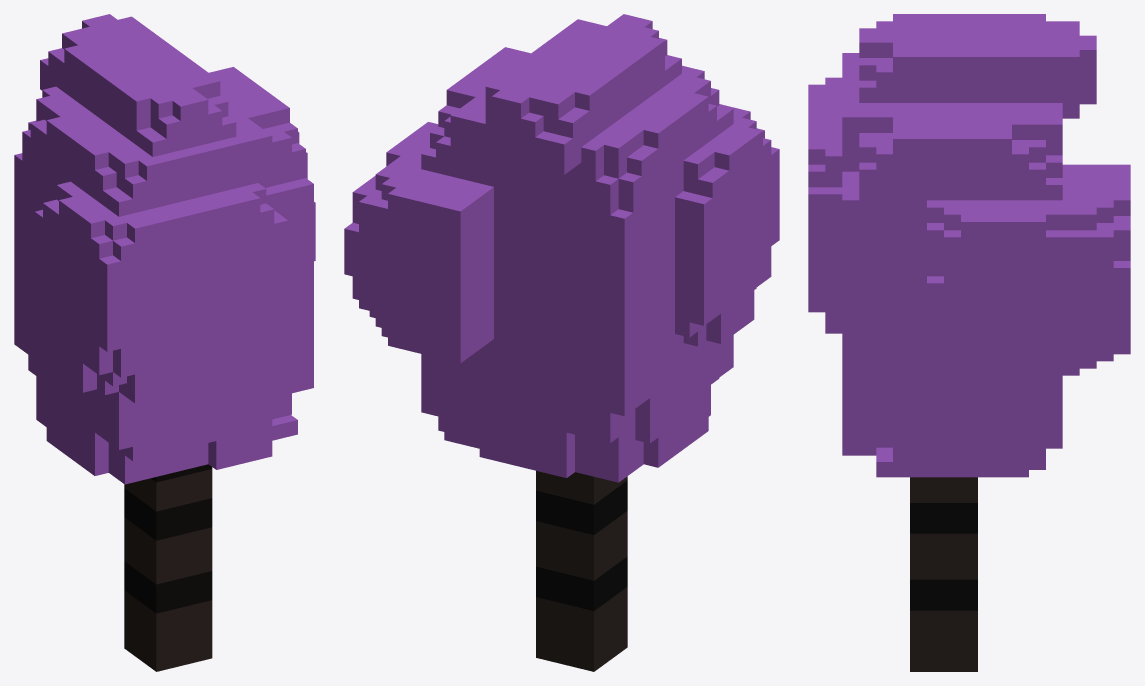
File: Isla-Del-Verano-6.obj
3 renders of one model, left to right at view 1: azimuth 30°, elevation 25°; view 2: azimuth 150°, elevation 25°; view 3: azimuth 270°, elevation 25°, orthographic. The views are drawn at different scales.
Size of the model in its own units: 1.9 by 4 by 1.9.
1 material, 1 textured.
